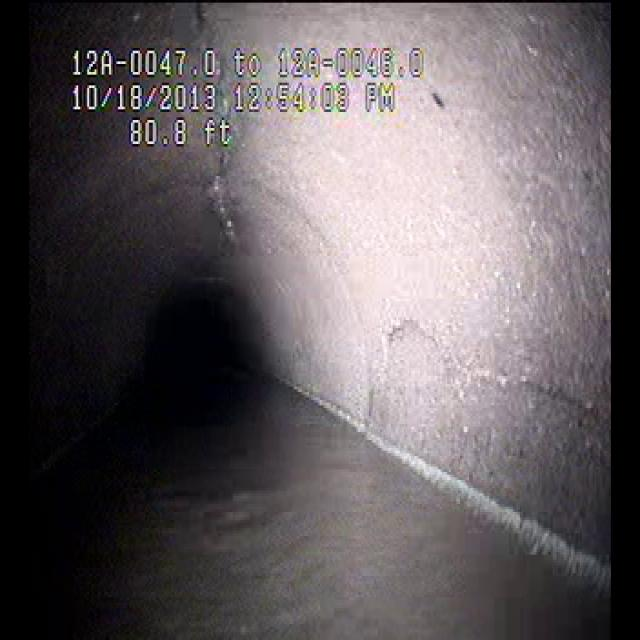Crack: (378, 311, 580, 424)
